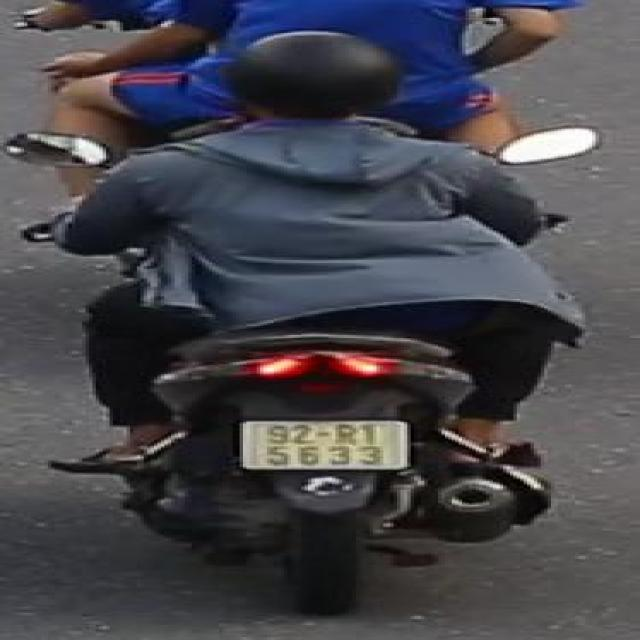LP: (231, 415, 419, 473)
helmet: (221, 31, 412, 140)
